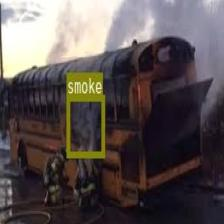smoke: (66, 94, 104, 156)
